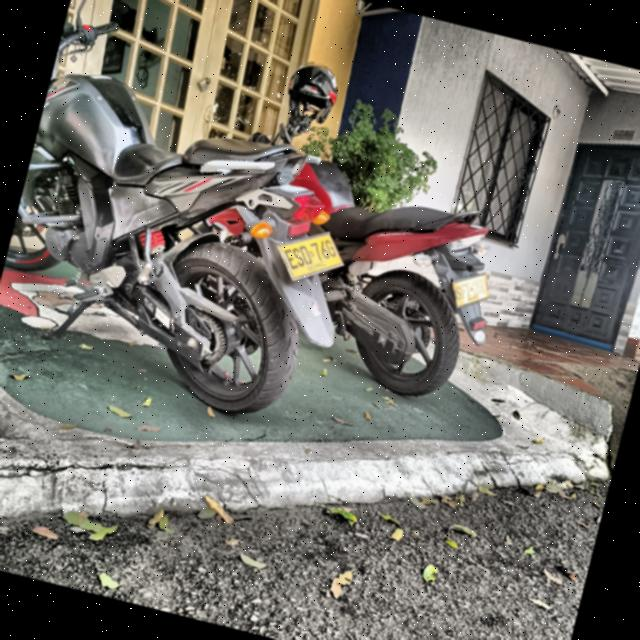6: (316, 240, 331, 261)
7: (308, 241, 323, 262)
E: (282, 248, 299, 271)
G: (322, 238, 336, 258)
O: (297, 245, 313, 266)
S: (290, 247, 305, 269)
